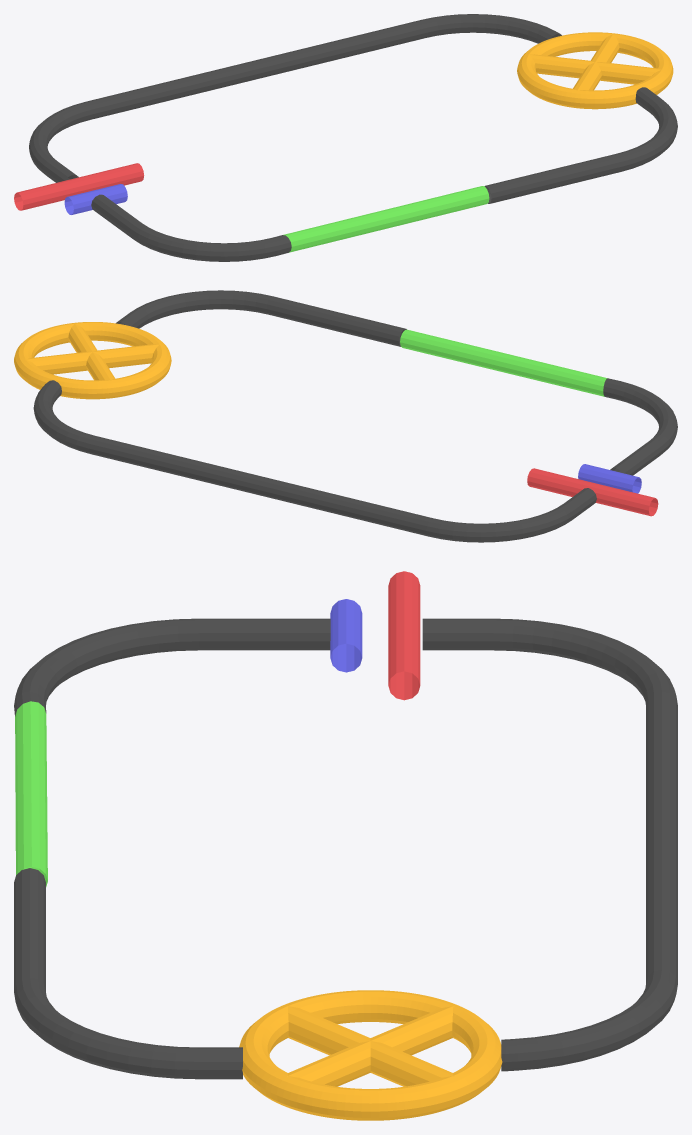
Rendered from nuevocircuito.gltf.
The picture shows the model from 3 angles, top to bottom: view 1: azimuth 30°, elevation 25°; view 2: azimuth 150°, elevation 25°; view 3: azimuth 270°, elevation 25°; orthographic projection. The views are drawn at different scales.
Parts seen in each view (by area): view 1: rect10, path13, rect10.001, path41, path88-3, path88, path39; view 2: rect10, path13, rect10.001, path41, path88, path39, path88-3; view 3: rect10, path13, rect10.001, path88, path88-3, path41, path39.
Boxes of the visible parts, x1,y1,x2,y2 form: rect10: [29, 14, 677, 261]; path13: [517, 32, 673, 109]; rect10.001: [283, 186, 489, 252]; path41: [14, 163, 144, 210]; path88-3: [528, 54, 662, 84]; path88: [573, 33, 619, 90]; path39: [64, 184, 127, 214]; rect10: [33, 290, 677, 542]; path13: [14, 322, 171, 399]; rect10.001: [400, 329, 607, 396]; path41: [527, 468, 658, 516]; path88: [25, 344, 160, 374]; path39: [578, 464, 641, 493]; path88-3: [68, 323, 114, 380]; rect10: [14, 618, 677, 1079]; path13: [239, 990, 502, 1120]; rect10.001: [15, 701, 47, 886]; path88: [286, 1005, 454, 1086]; path88-3: [287, 1005, 454, 1086]; path41: [388, 571, 420, 700]; path39: [330, 599, 362, 672].
Size of the model in its own units: 4.61 by 0.1185 by 2.46.
